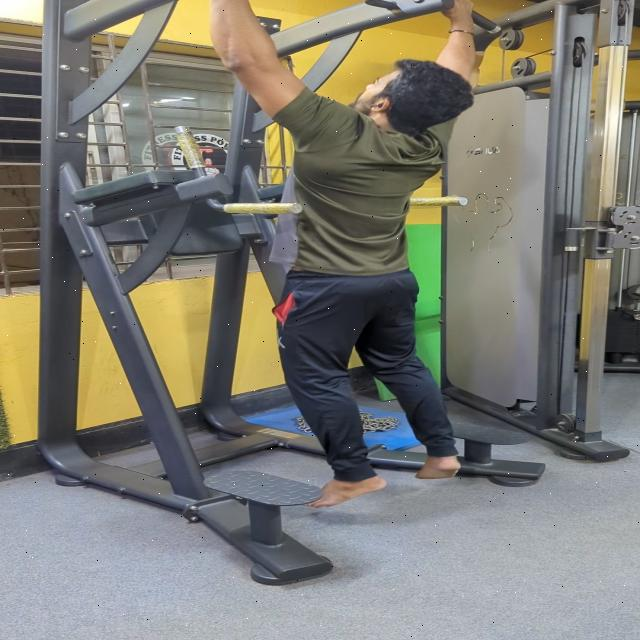Normal_PullUps: (117, 0, 549, 501)
